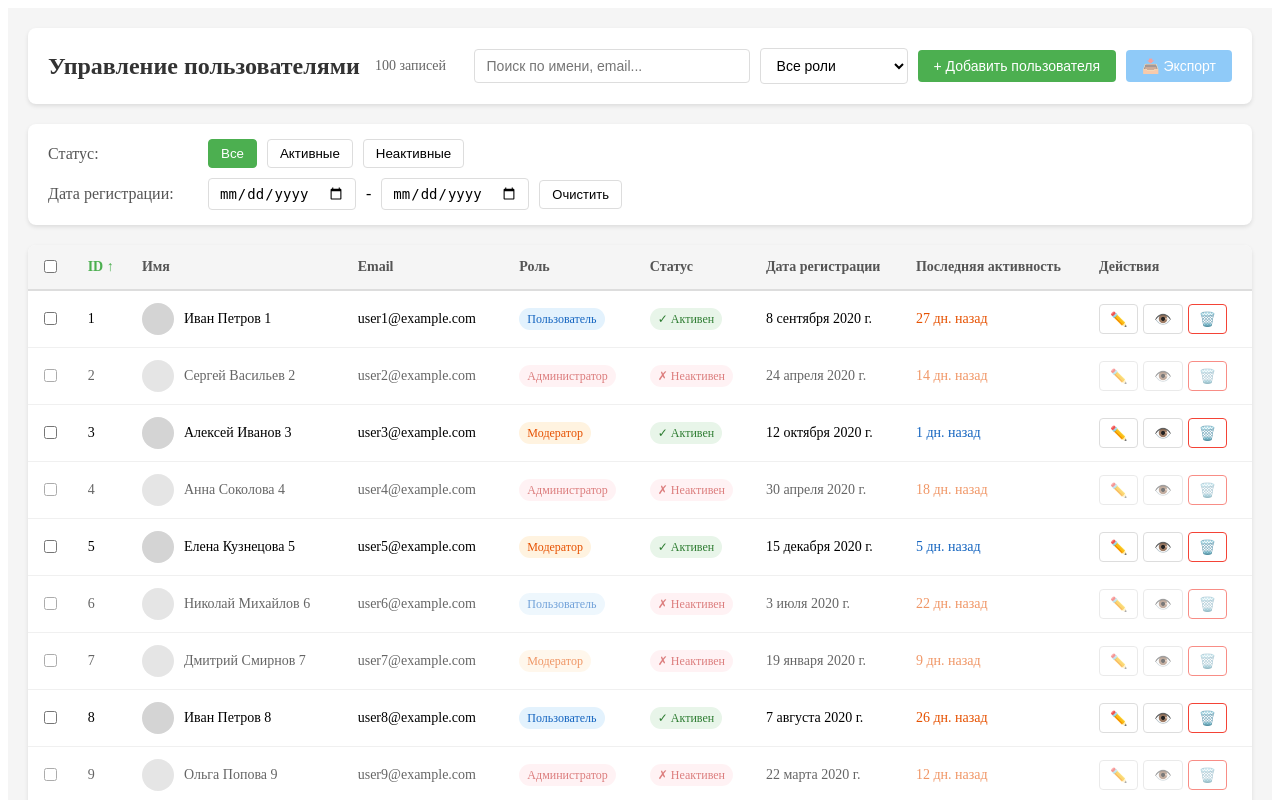
Scenario: UserTable › Детали пользователя › должен отобразить информацию о пользователе в модальном окне
The image size is (1280, 800).
Click the button with class "btn-icon" in the row of "user1@example.com": (1163, 319) [1143, 304, 1183, 334]
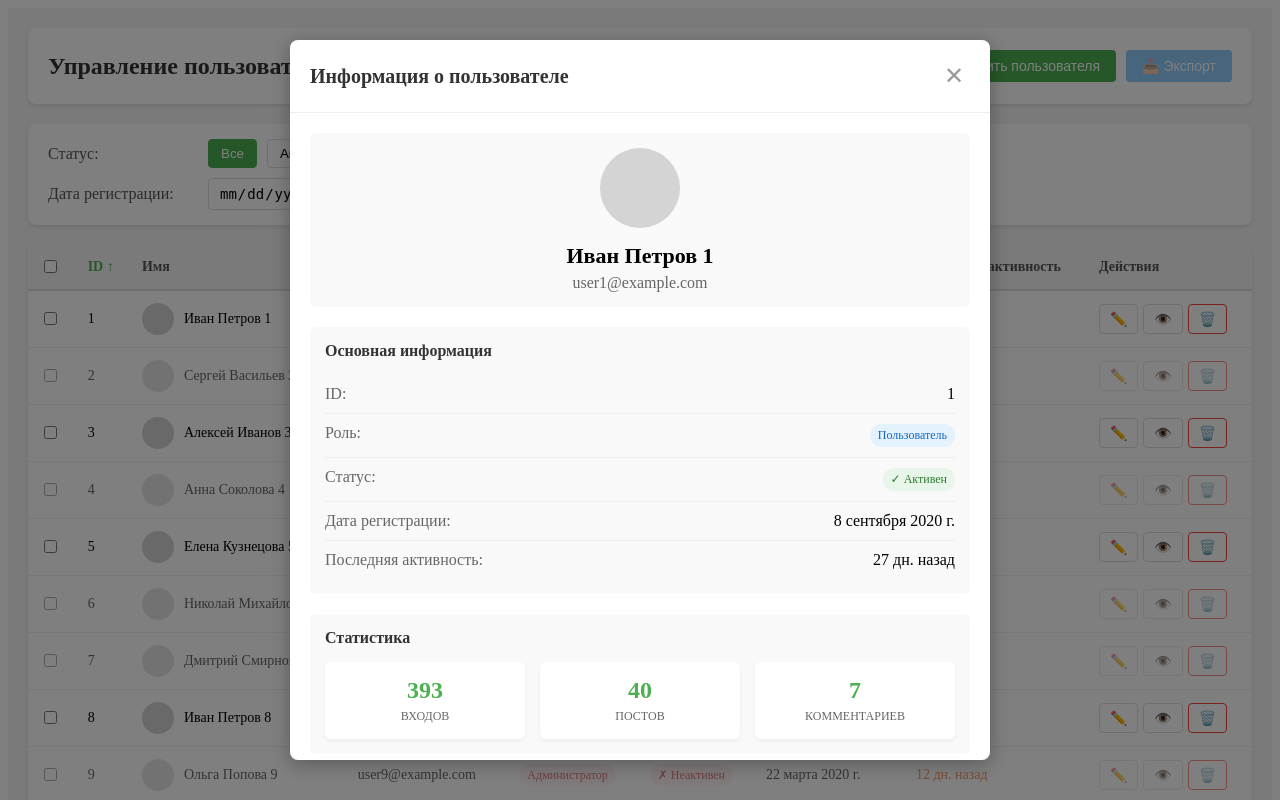
Expected: the element with class "modal" shows "ID:", [325, 385, 346, 402]
Expected: the element with class "modal" shows "Роль:", [325, 424, 361, 441]
Expected: the element with class "modal" shows "Статус:", [325, 468, 376, 485]
